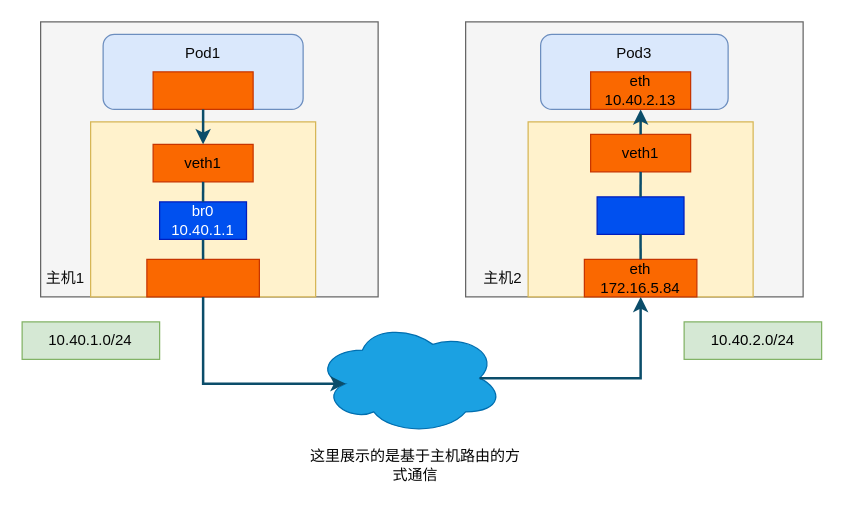
The diagram is 844 pixels wide and 506 high, and some of its shapes have lost their labels. Here are the shapes that lost their labels. From the top down, the box of each, then its label:
(152, 71, 253, 109): eth 10.40.1.10
(596, 196, 684, 234): br0 10.40.2.1
(146, 258, 259, 297): eth 172.16.5.83
(314, 321, 503, 434): Route Table 10.40.1.1/24 10.40.2.1/24
